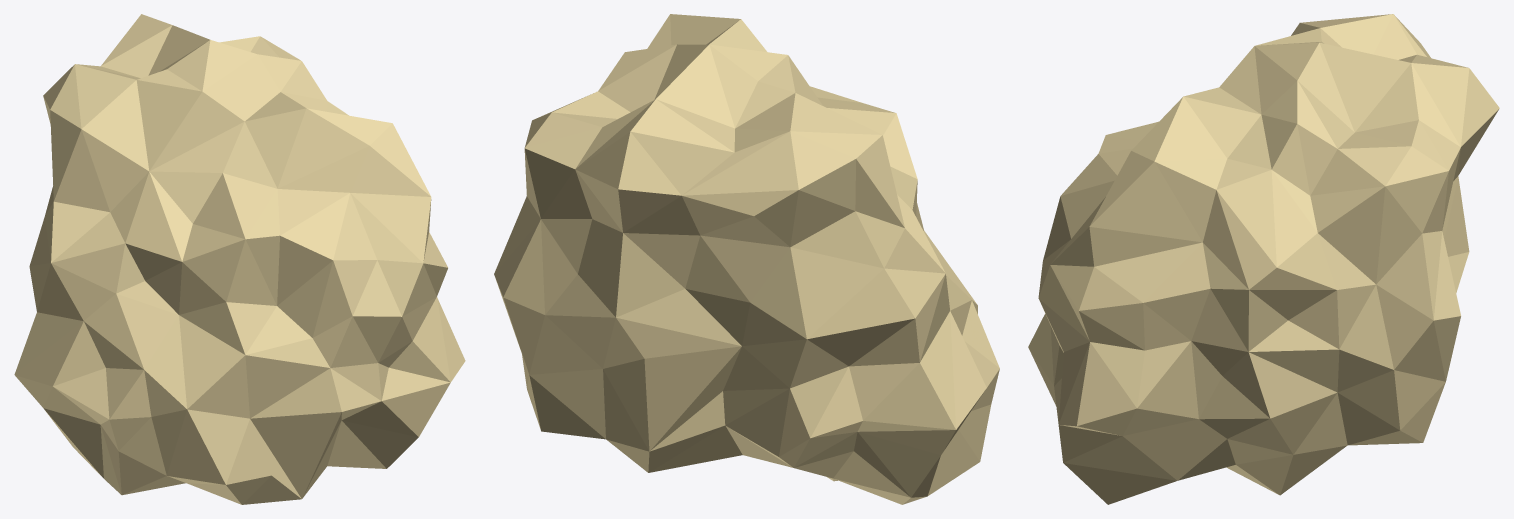
Rendered from Asteroid (74).fbx.
The picture shows the model from 3 angles, left to right: view 1: azimuth 30°, elevation 25°; view 2: azimuth 150°, elevation 25°; view 3: azimuth 270°, elevation 25°; orthographic projection. The views are drawn at different scales.
Parts seen in each view (by area): view 1: Asteroid184; view 2: Asteroid184; view 3: Asteroid184.
Part boxes in pixels (left/top/right/bottom): Asteroid184: left=14, top=14, right=465, bottom=504; Asteroid184: left=494, top=14, right=999, bottom=504; Asteroid184: left=1028, top=14, right=1499, bottom=504.
Bounding box in the file's own units: 381 × 405 × 393.
